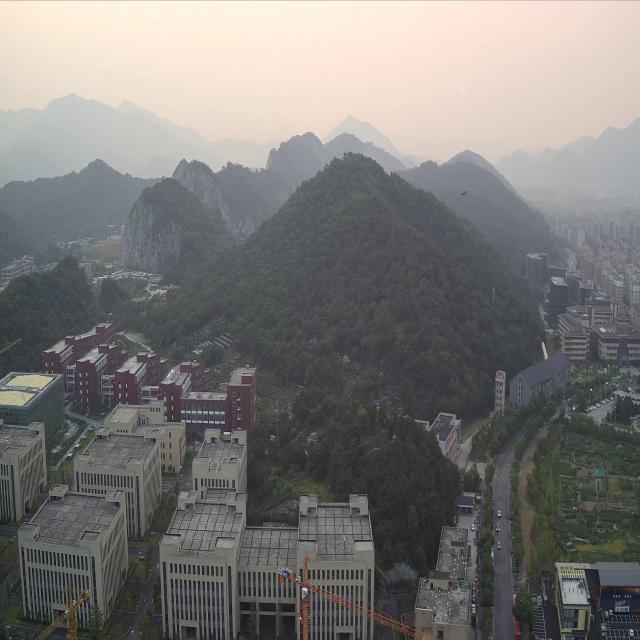UAV: (460, 190, 468, 196)
